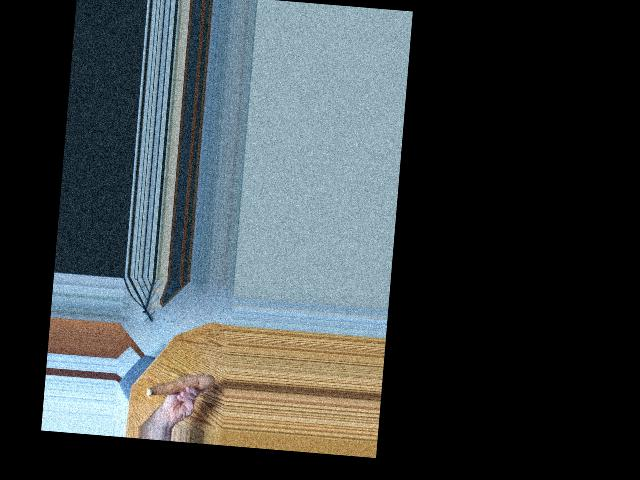sweet_potato: (144, 367, 213, 402)
